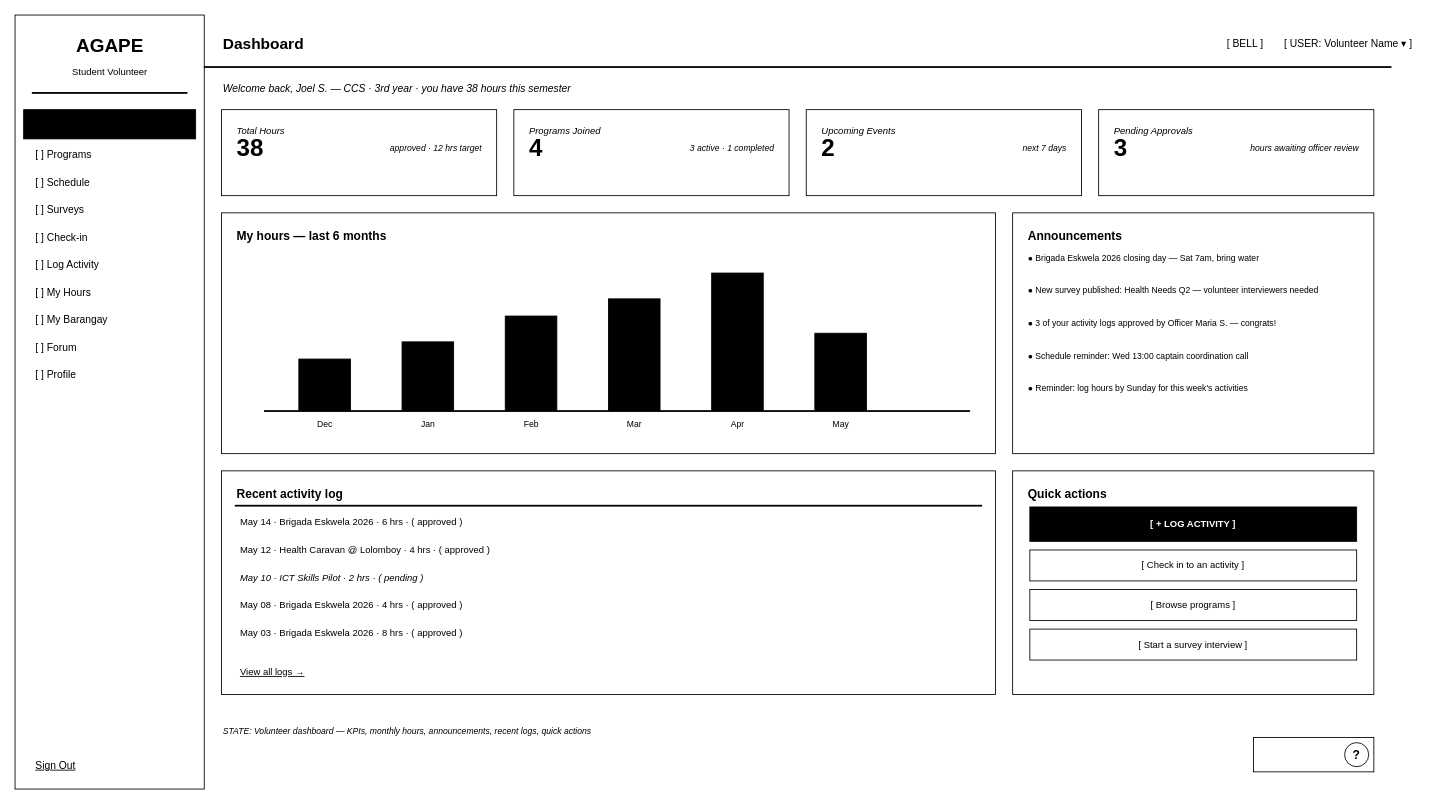
Some shapes in this 1441 by 804 pixel diagram are drawn without their labels. Here are the shapes that lost their labels. From the top down, the box of each, then its label:
(23, 109, 196, 139): [x] Dashboard
(1253, 737, 1374, 772): [ AI CHATBOT ]
